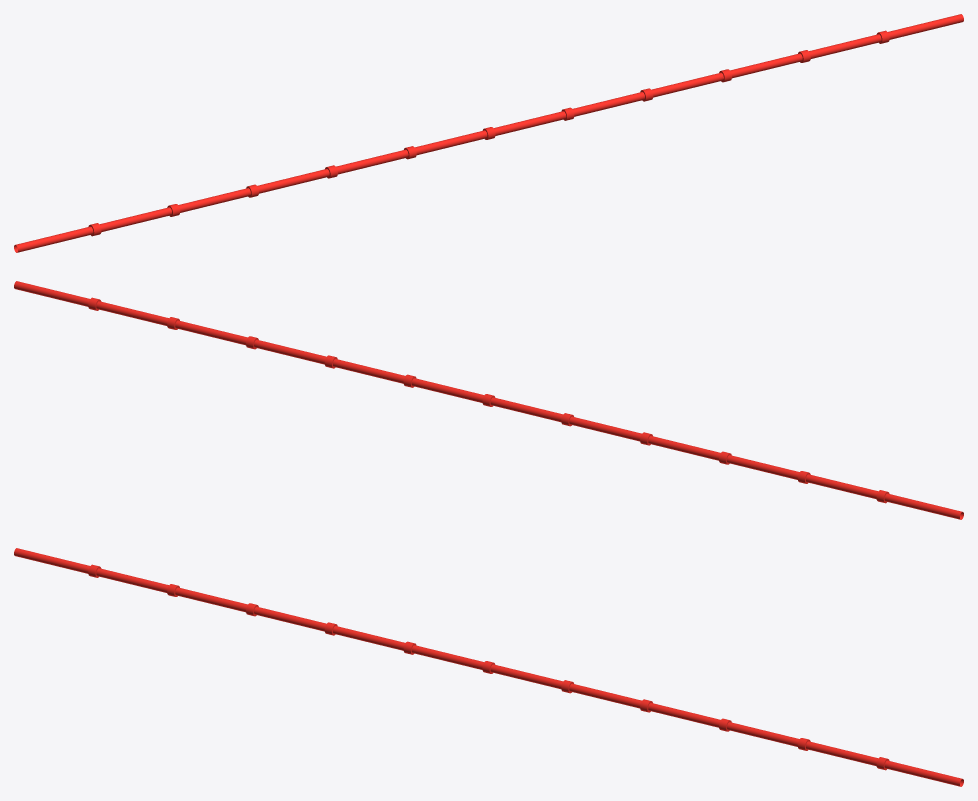
The model's file is Barra banderines.fbx.
3 views of the same model, one above another, from view 1: azimuth 30°, elevation 25°; view 2: azimuth 150°, elevation 25°; view 3: azimuth 330°, elevation 25° (orthographic).
Visible parts, largest first — view 1: Cylinder.001; view 2: Cylinder.001; view 3: Cylinder.001.
Part boxes in pixels (<box>): Cylinder.001: <box>14,14,963,252</box>; Cylinder.001: <box>14,281,963,519</box>; Cylinder.001: <box>14,548,963,786</box>.
Size of the model in its own units: 3953 by 42.65 by 42.65.
